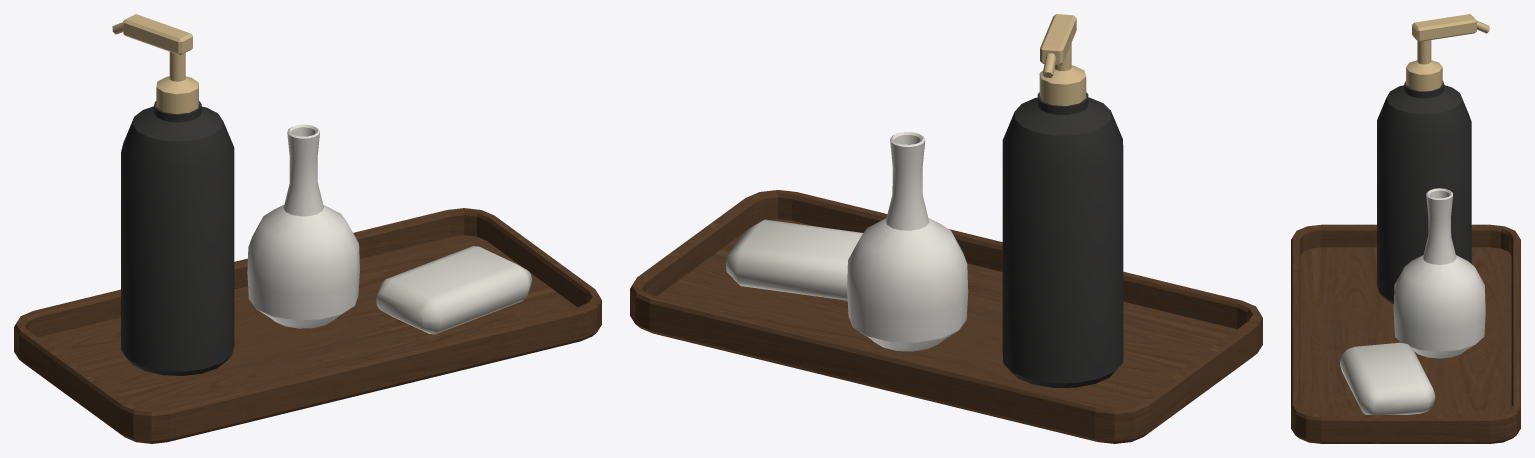
Rendered from decor_d_vanity_tray.gltf.
The picture shows the model from 3 angles, left to right: view 1: azimuth 30°, elevation 25°; view 2: azimuth 150°, elevation 25°; view 3: azimuth 270°, elevation 25°; orthographic projection. The views are drawn at different scales.
Visible parts, largest first — view 1: DecorD_VanityTray_Walnut_NoCollide, DecorD_VanityTray_SoapPump01_Charcoal_NoCollide, DecorD_VanityTray_Vase01_BathStone_NoCollide, DecorD_VanityTray_Soap01_Paper_NoCollide, DecorD_VanityTray_SoapPump01_Brass_NoCollide; view 2: DecorD_VanityTray_Walnut_NoCollide, DecorD_VanityTray_SoapPump01_Charcoal_NoCollide, DecorD_VanityTray_Vase01_BathStone_NoCollide, DecorD_VanityTray_Soap01_Paper_NoCollide, DecorD_VanityTray_SoapPump01_Brass_NoCollide; view 3: DecorD_VanityTray_Walnut_NoCollide, DecorD_VanityTray_SoapPump01_Charcoal_NoCollide, DecorD_VanityTray_Vase01_BathStone_NoCollide, DecorD_VanityTray_Soap01_Paper_NoCollide, DecorD_VanityTray_SoapPump01_Brass_NoCollide.
Boxes of the visible parts, x1=… form: DecorD_VanityTray_Walnut_NoCollide: x1=14, y1=208, x2=601, y2=443; DecorD_VanityTray_SoapPump01_Charcoal_NoCollide: x1=121, y1=101, x2=234, y2=375; DecorD_VanityTray_Vase01_BathStone_NoCollide: x1=247, y1=124, x2=359, y2=328; DecorD_VanityTray_Soap01_Paper_NoCollide: x1=376, y1=246, x2=531, y2=334; DecorD_VanityTray_SoapPump01_Brass_NoCollide: x1=112, y1=14, x2=198, y2=114; DecorD_VanityTray_Walnut_NoCollide: x1=630, y1=190, x2=1262, y2=443; DecorD_VanityTray_SoapPump01_Charcoal_NoCollide: x1=1002, y1=92, x2=1123, y2=387; DecorD_VanityTray_Vase01_BathStone_NoCollide: x1=847, y1=132, x2=968, y2=351; DecorD_VanityTray_Soap01_Paper_NoCollide: x1=726, y1=219, x2=863, y2=300; DecorD_VanityTray_SoapPump01_Brass_NoCollide: x1=1039, y1=14, x2=1086, y2=105; DecorD_VanityTray_Walnut_NoCollide: x1=1291, y1=224, x2=1520, y2=443; DecorD_VanityTray_SoapPump01_Charcoal_NoCollide: x1=1377, y1=81, x2=1471, y2=304; DecorD_VanityTray_Vase01_BathStone_NoCollide: x1=1393, y1=188, x2=1485, y2=358; DecorD_VanityTray_Soap01_Paper_NoCollide: x1=1340, y1=342, x2=1435, y2=414; DecorD_VanityTray_SoapPump01_Brass_NoCollide: x1=1406, y1=14, x2=1489, y2=91.
Size of the model in its own units: 0.3 by 0.199 by 0.15.
5 materials, 1 textured.
